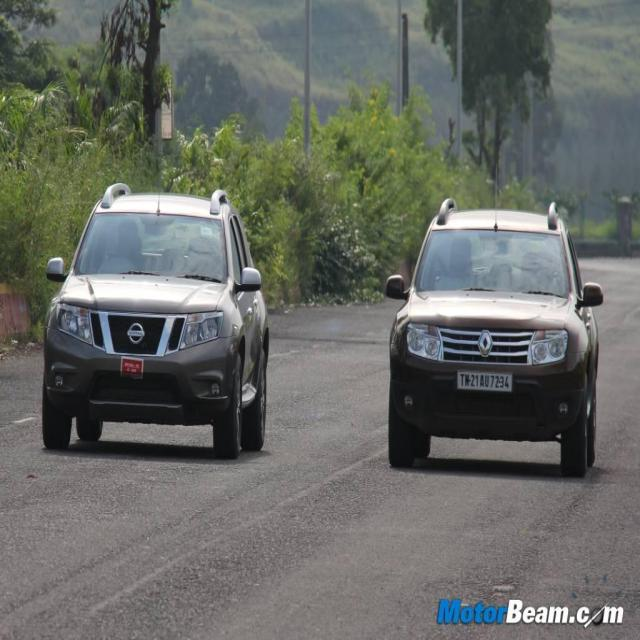number_plate: (454, 369, 517, 392)
